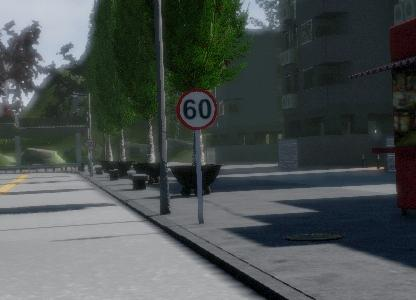Speed_60: (233, 76, 280, 124)
